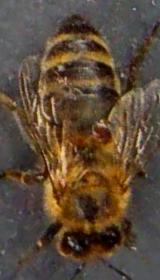varroa_mite: (83, 117, 117, 145)
